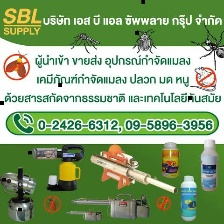insecticide: (198, 137, 220, 193), (178, 173, 198, 223), (159, 140, 180, 179)
